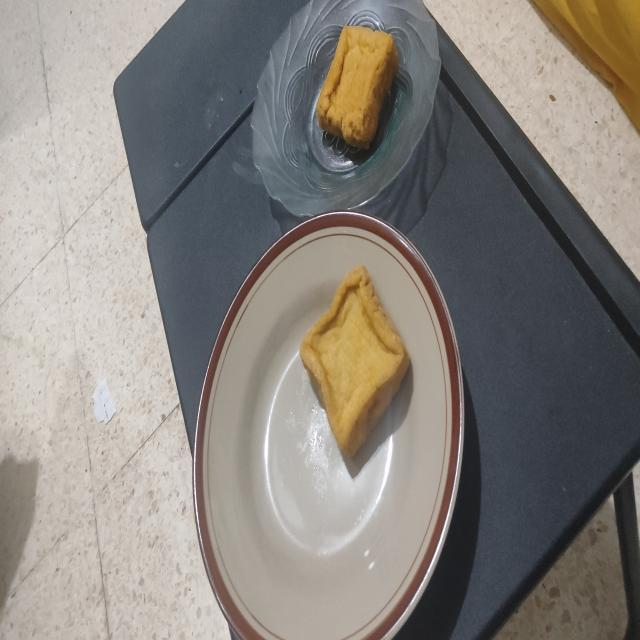tahu_goreng: (300, 265, 410, 457), (317, 27, 398, 150)
